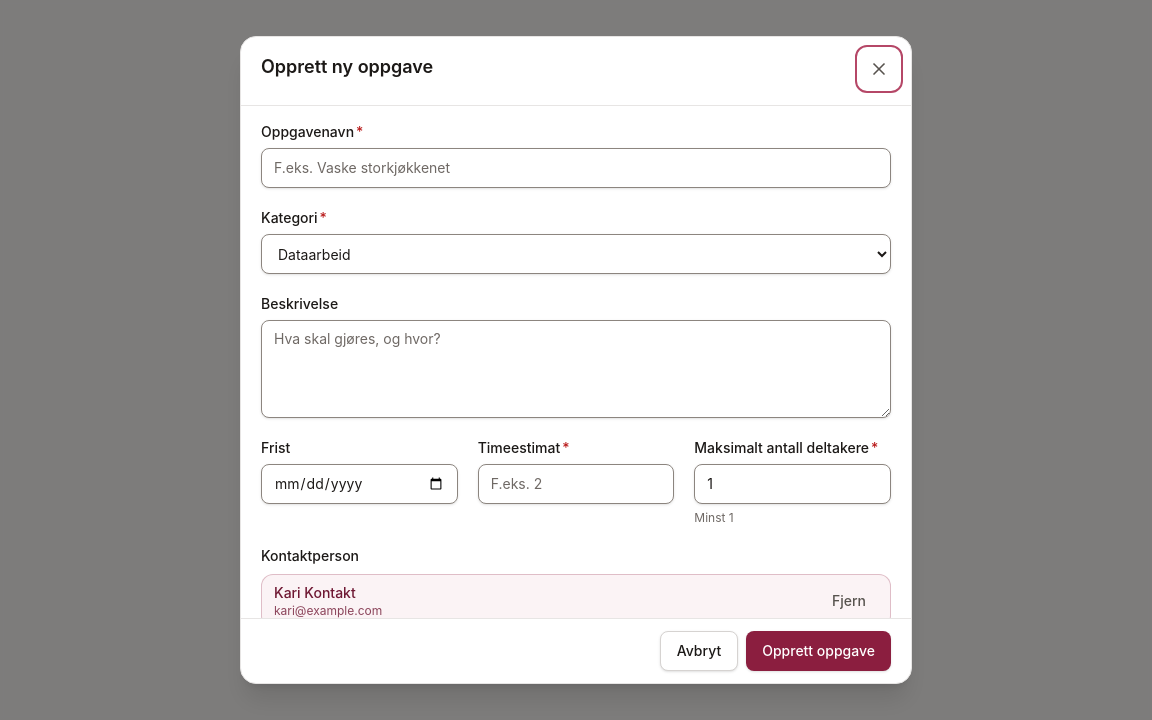
Scenario: TaskCreationModal › only accepts whole hours, since the estimate is stored as an integer
Type "Halvtimes oppgave" into the field labelled "Oppgavenavn*". click: point(576, 168)
box: [261,148,891,188]
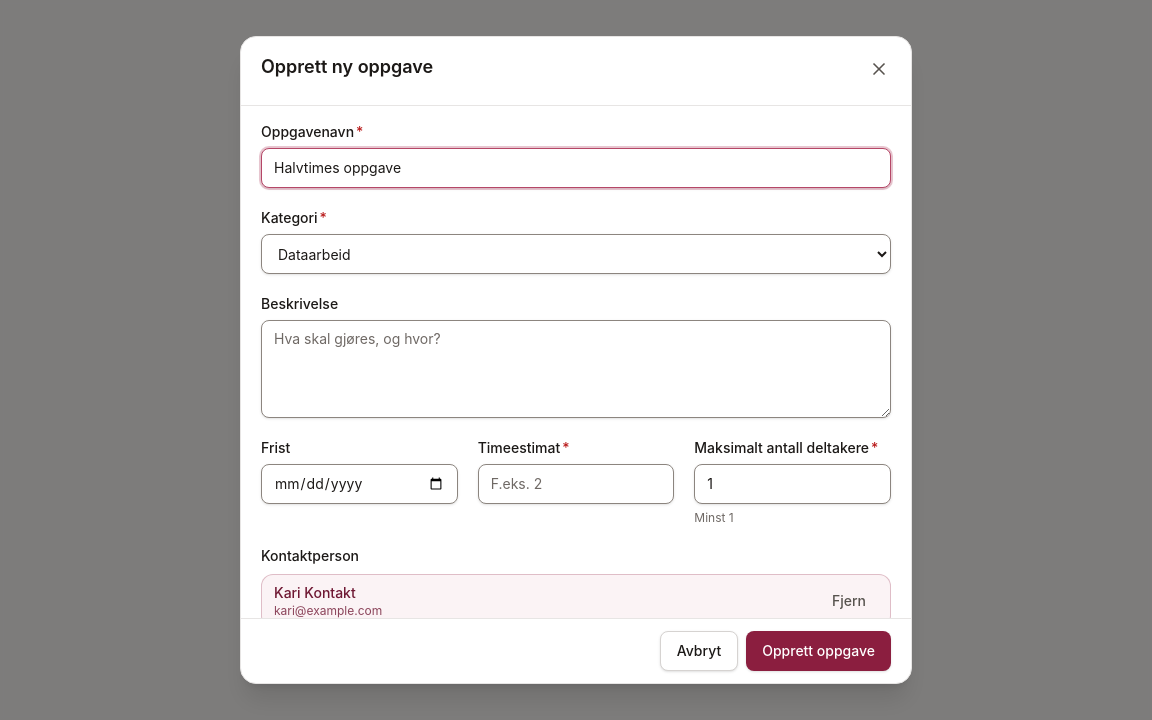
Type "2.5" into the number field labelled "Timeestimat*". click: point(576, 484)
box: [478,464,674,504]
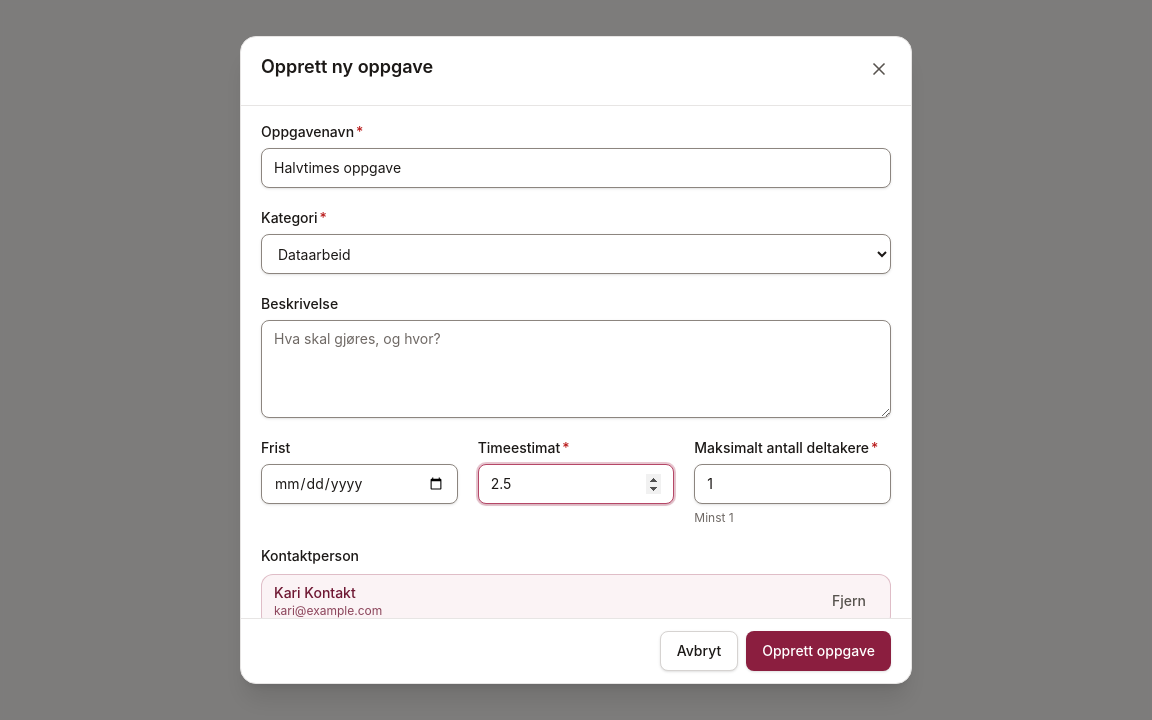
Click the button "Opprett oppgave". click: point(819, 651)
box: [746,631,891,671]
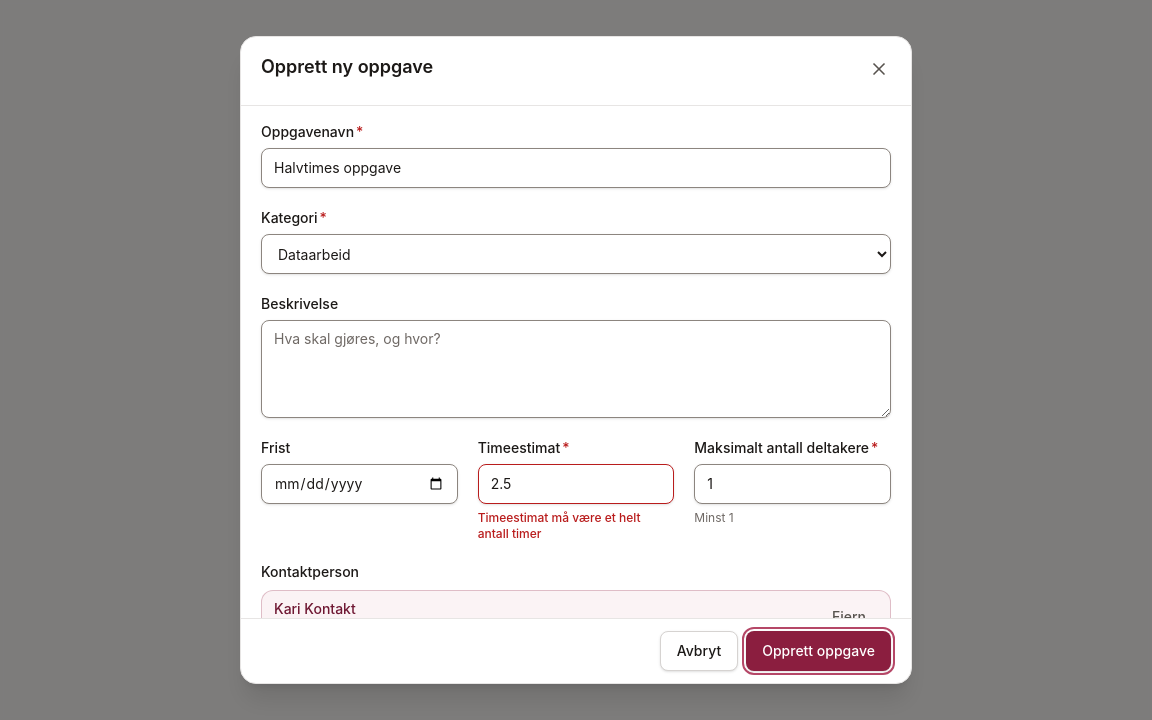
Expected: the text "Timeestimat må være et helt antall timer" is shown, [478,510,641,541]
